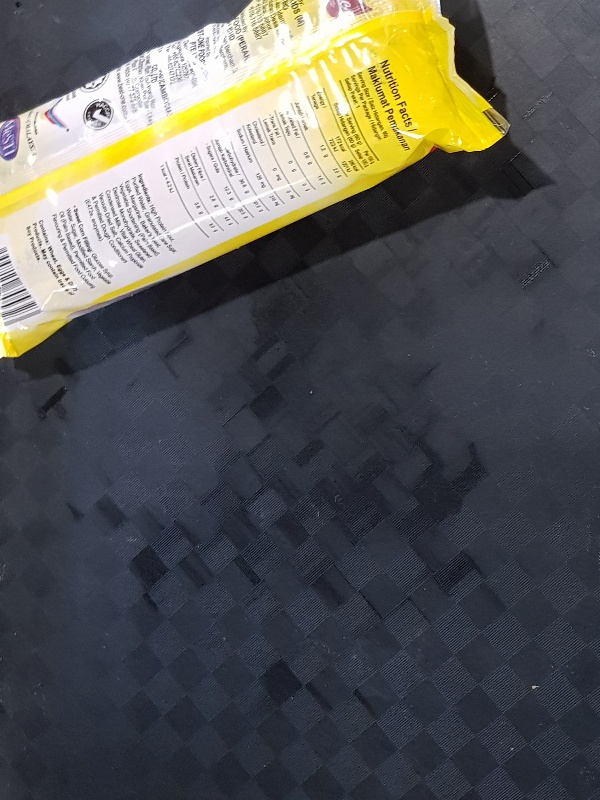Tinges Roll Sweet Corn: (2, 1, 510, 358)
